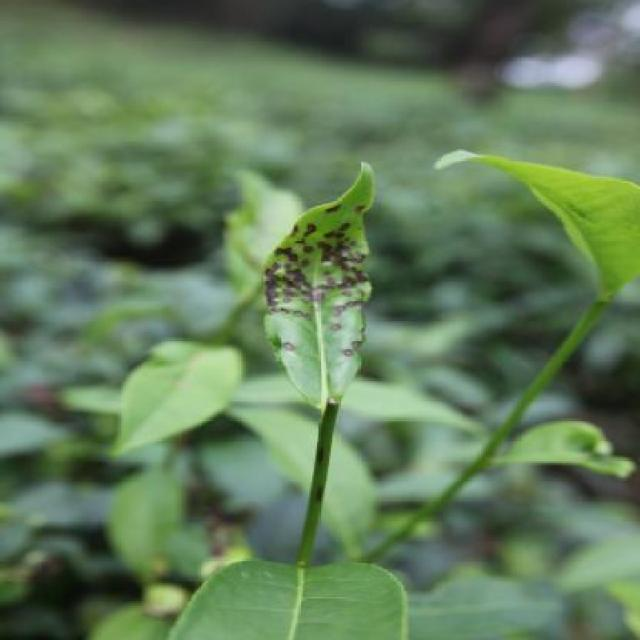Tea Mosquito bug infested leaf: (258, 177, 384, 411)
